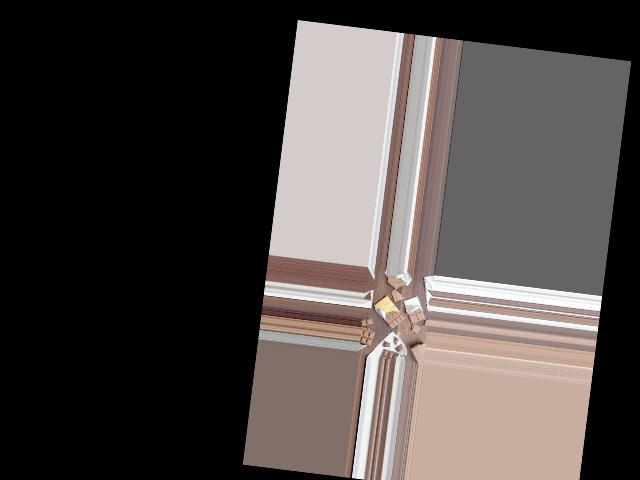chocolate: (400, 296, 430, 325)
